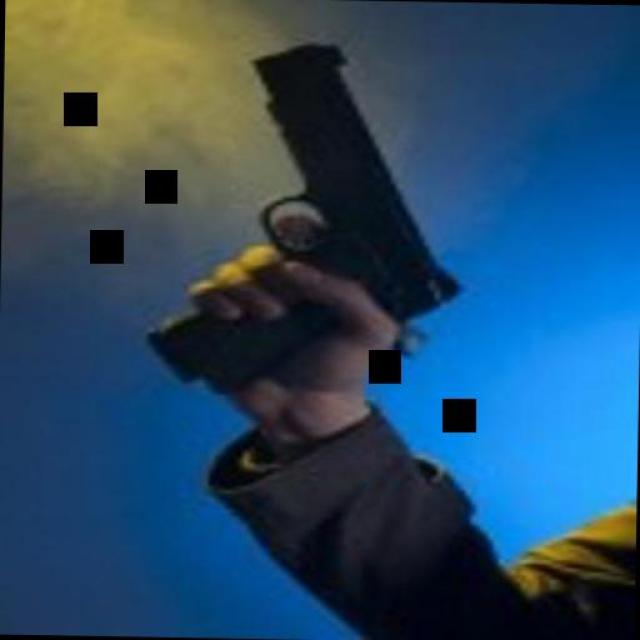gun: (100, 25, 478, 381)
